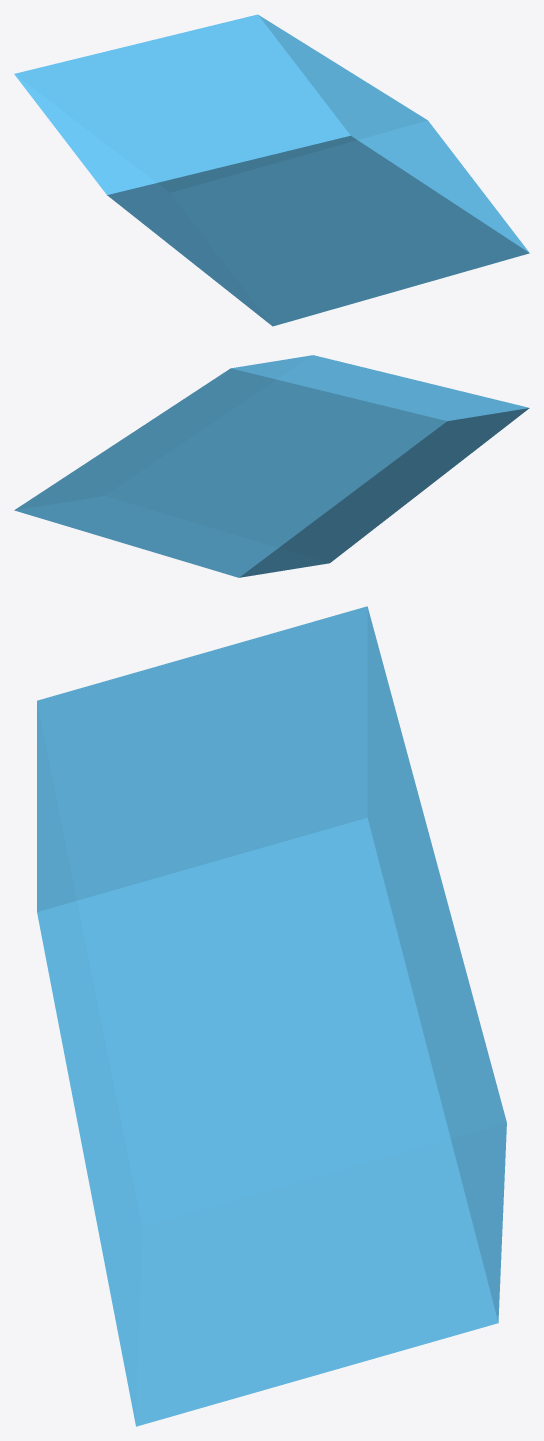
The model's file is Event_421127236_HBrechit_37.fbx.
3 renders of one model, top to bottom at view 1: azimuth 30°, elevation 25°; view 2: azimuth 150°, elevation 25°; view 3: azimuth 270°, elevation 25°, orthographic. The views are drawn at different scales.
Visible parts, largest first — view 1: Model; view 2: Model; view 3: Model.
Part boxes in pixels (<box>): Model: <box>14,14,529,326</box>; Model: <box>14,355,529,577</box>; Model: <box>37,606,506,1426</box>.
Size of the model in its own units: 1.07 by 0.577 by 0.5446.
